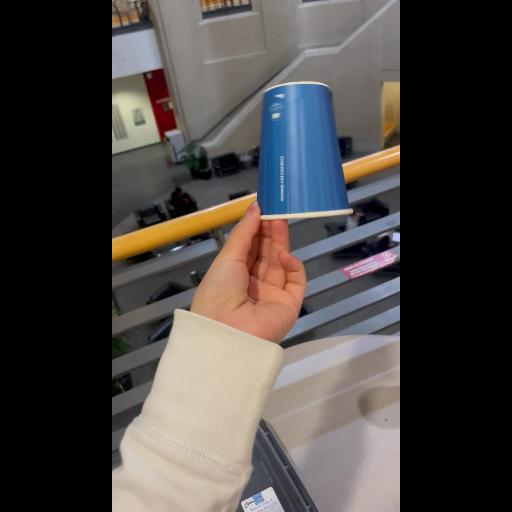lp_paper_cup: (216, 57, 368, 239)
